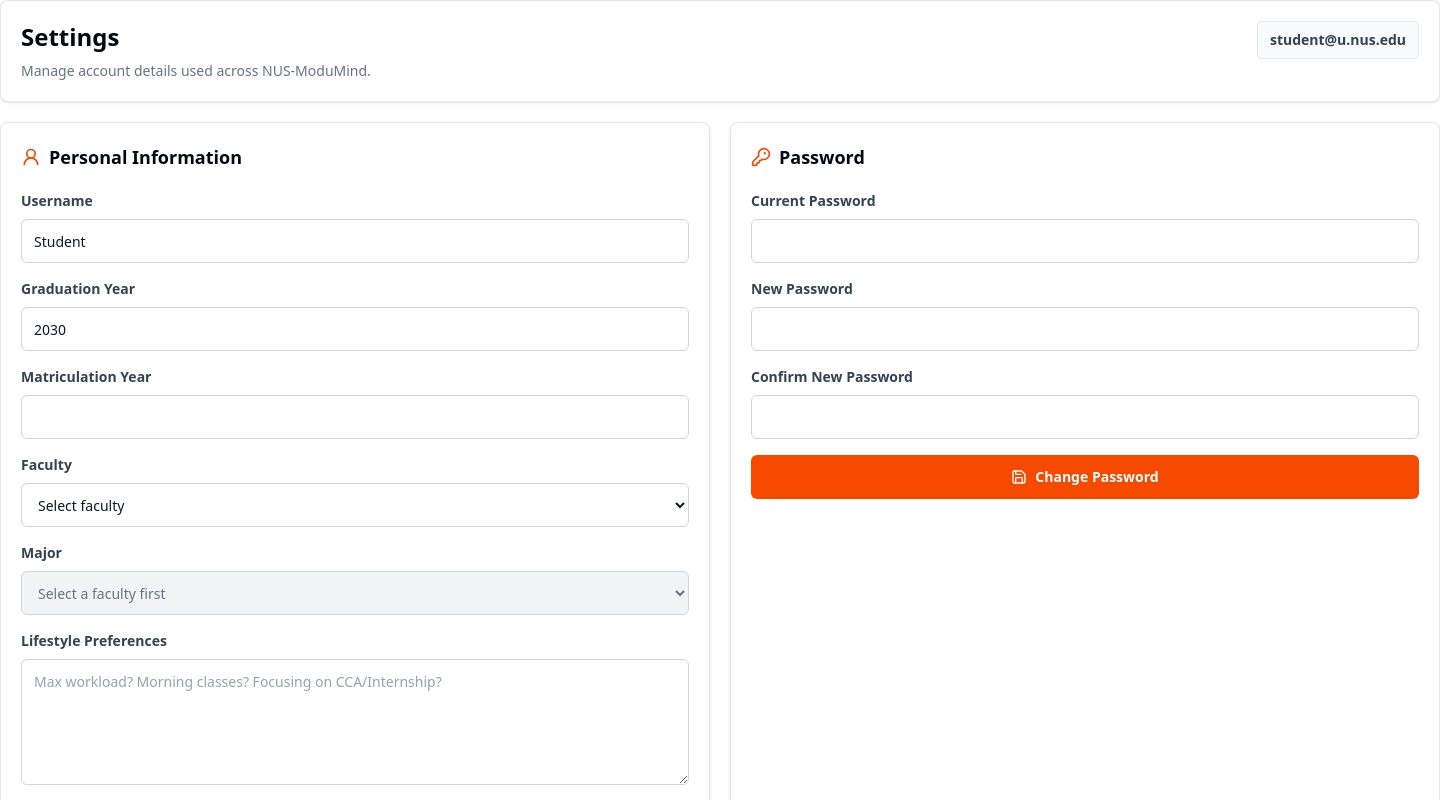
Test case: SettingsPage › submits normalized academic and lifestyle information
Select "School of Computing" in the dropdown labelled "Faculty": (355, 505) [21, 483, 689, 527]
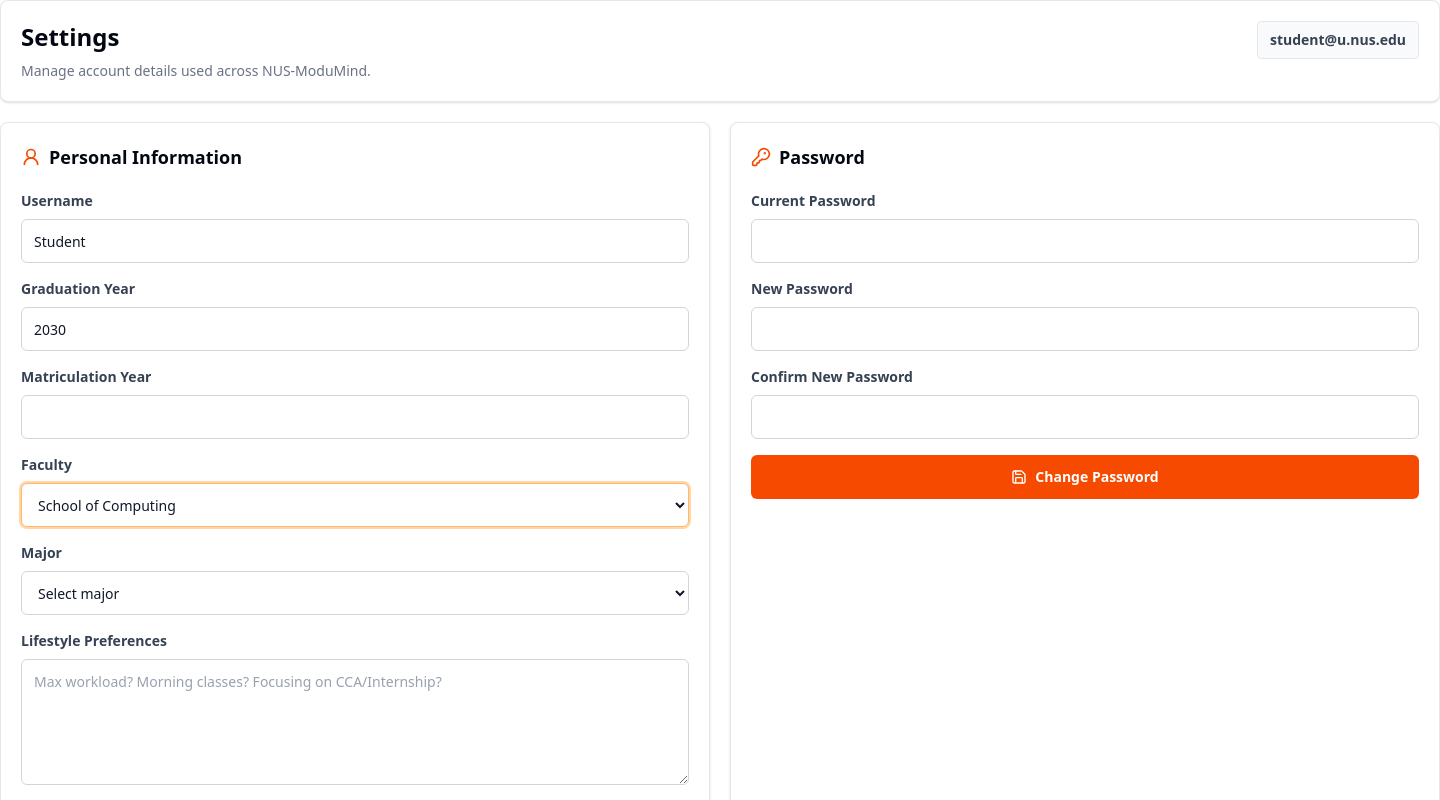
Select "Computer Science" in the dropdown labelled "Major": (355, 593) [21, 571, 689, 615]
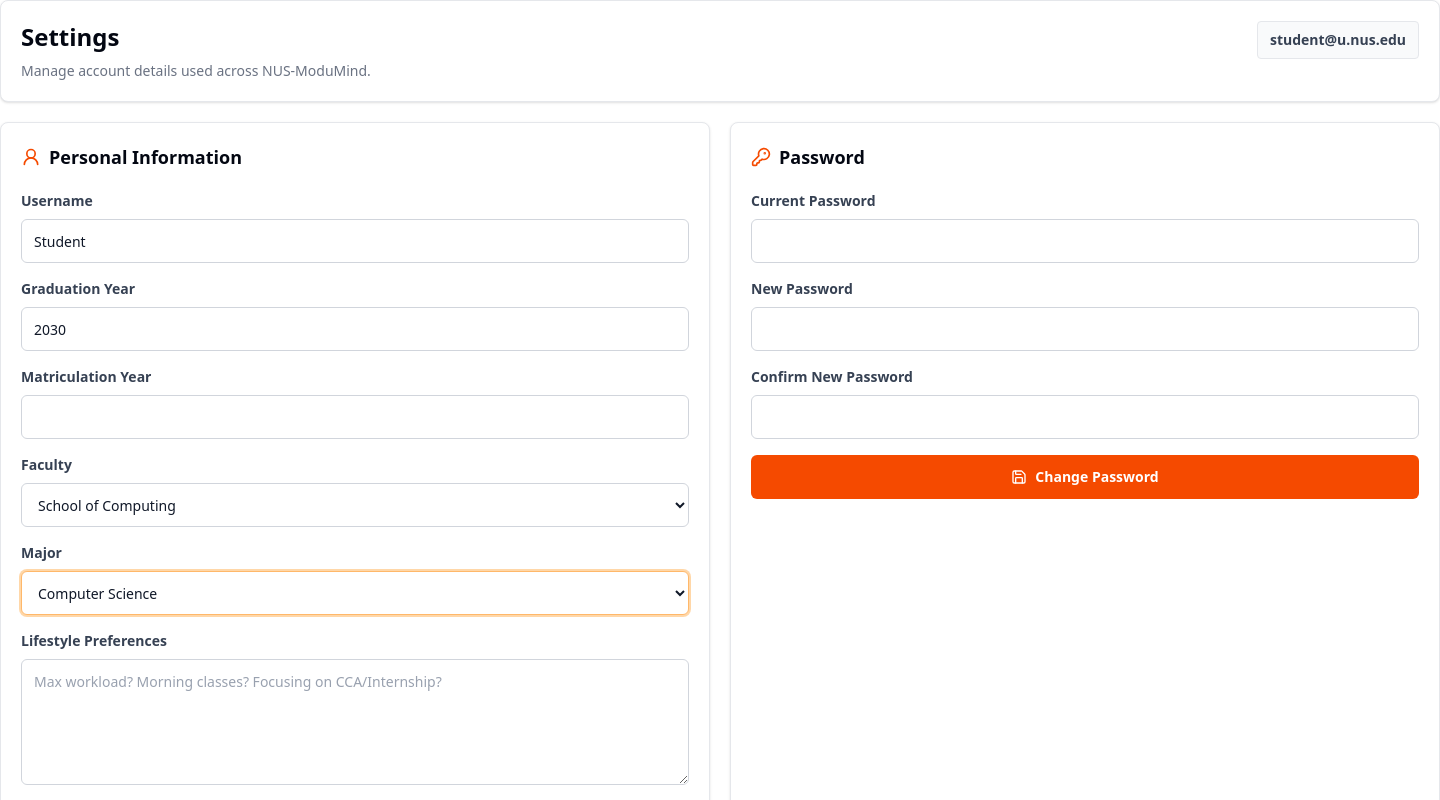
In the number field labelled "Matriculation Year": (355, 417) [21, 395, 689, 439], type "2026"
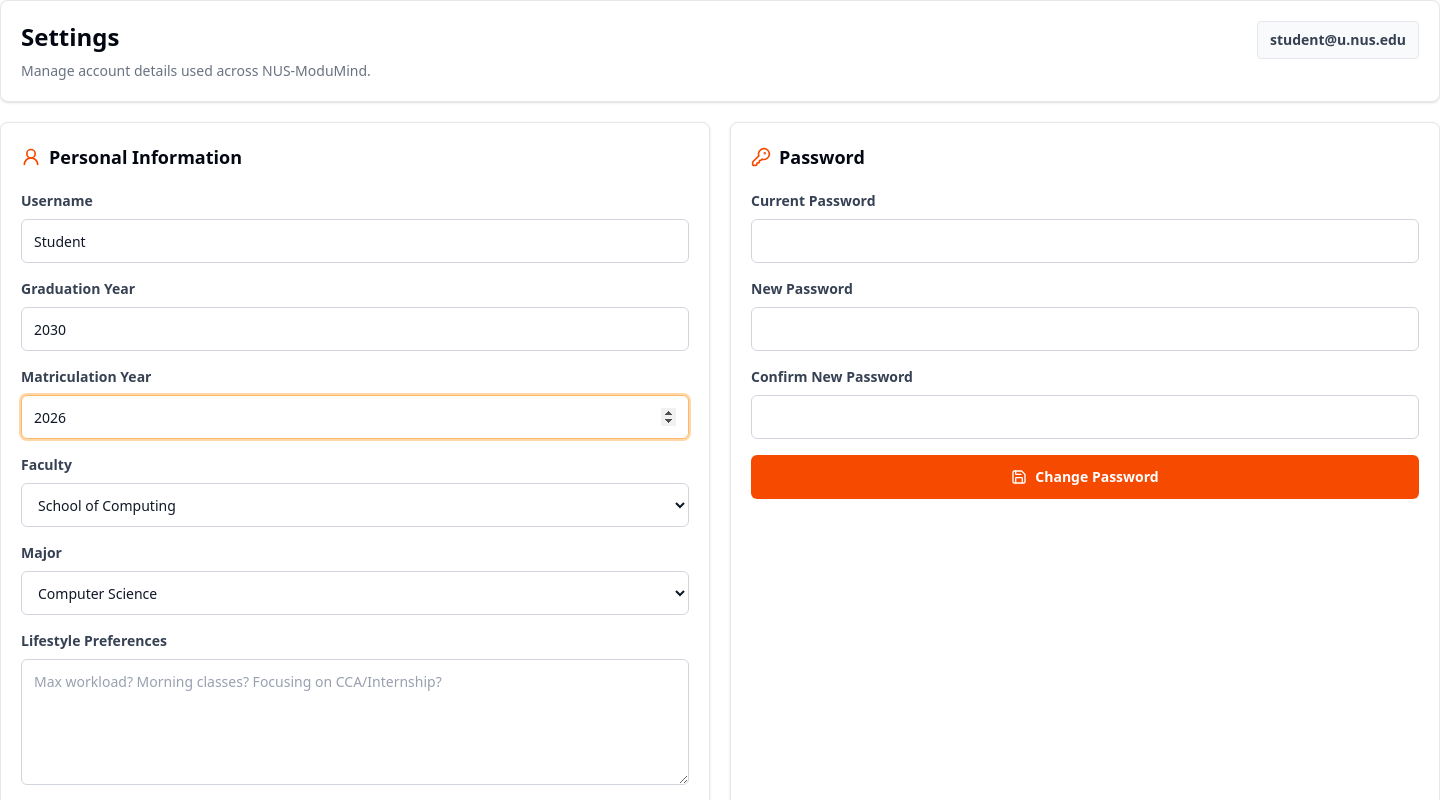
In the text box labelled "Lifestyle Preferences": (355, 722) [21, 659, 689, 785], type "  Avoid 8am classes  "
(page scrolled)
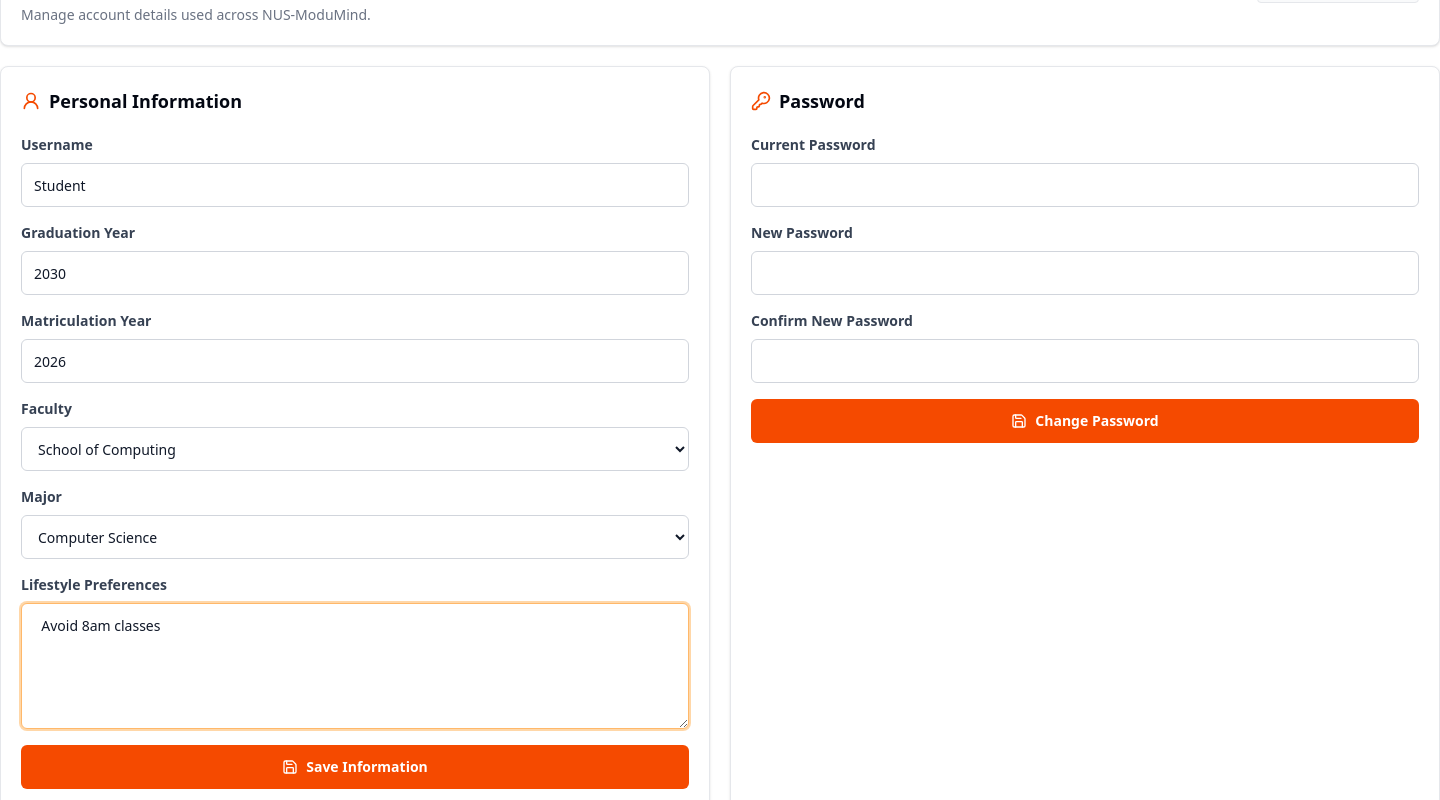
Click the button "Save Information": (355, 767) [21, 745, 689, 789]
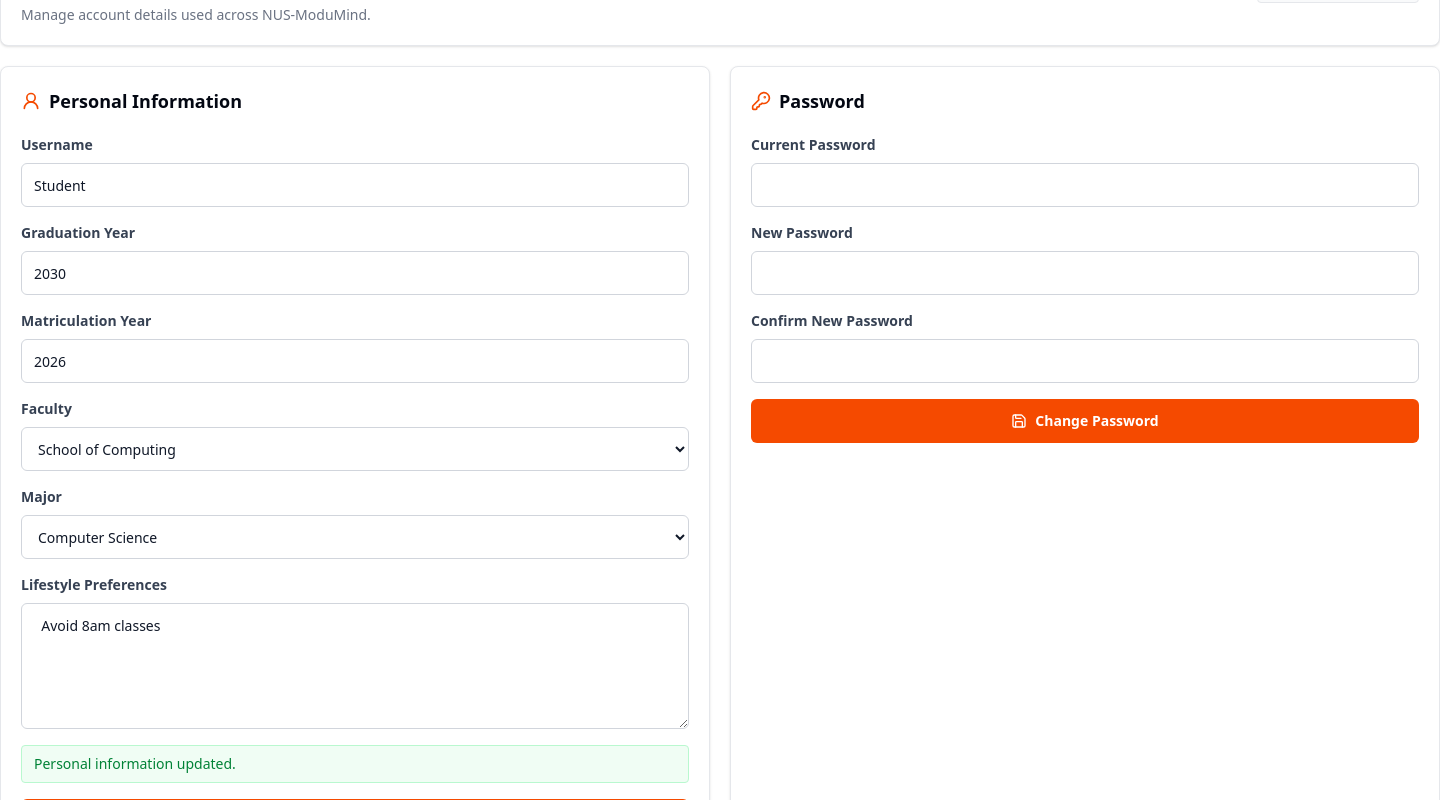
Expected: the text "Personal information updated." is shown, [21, 745, 689, 783]
